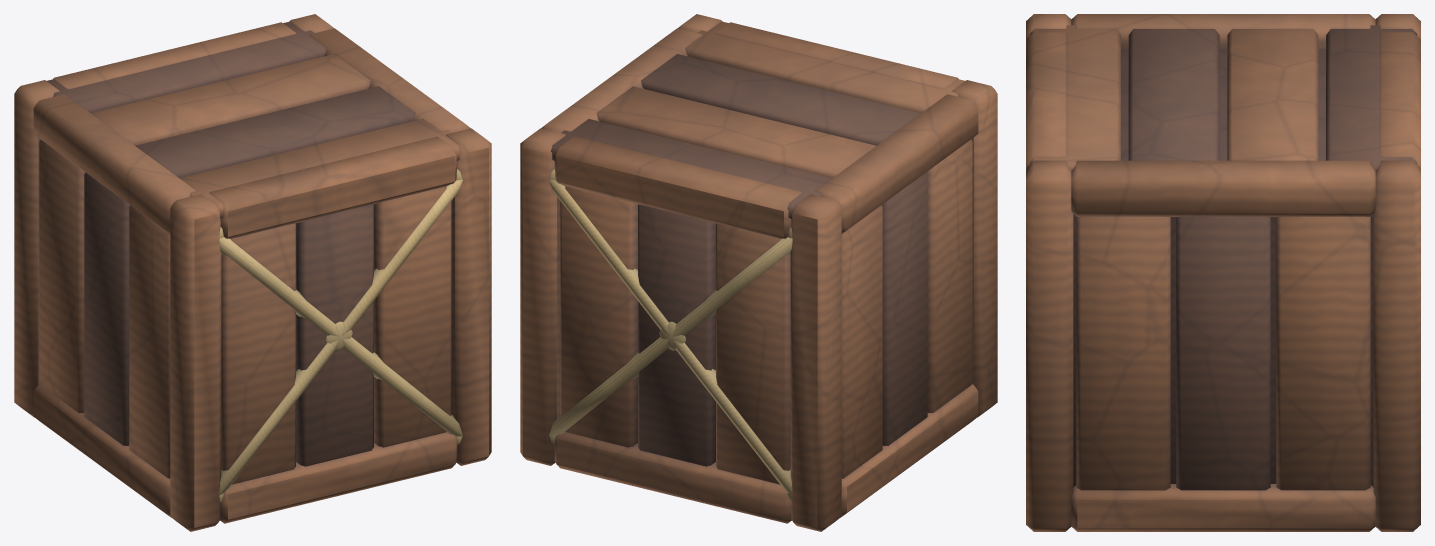
File: CC_P06_CargoCrate.fbx
3 views of the same model, side by side, from view 1: azimuth 30°, elevation 25°; view 2: azimuth 150°, elevation 25°; view 3: azimuth 270°, elevation 25° (orthographic). The views are drawn at different scales.
Parts seen in each view (by area): view 1: Crate, Rope; view 2: Crate, Rope; view 3: Crate.
Boxes of the visible parts, x1,y1,x2,y2 form: Crate: (14,14,491,531); Rope: (219,169,462,502); Crate: (520,14,997,531); Rope: (549,169,792,502); Crate: (1026,14,1420,531).
Bounding box in the file's own units: 1 × 1 × 1.
